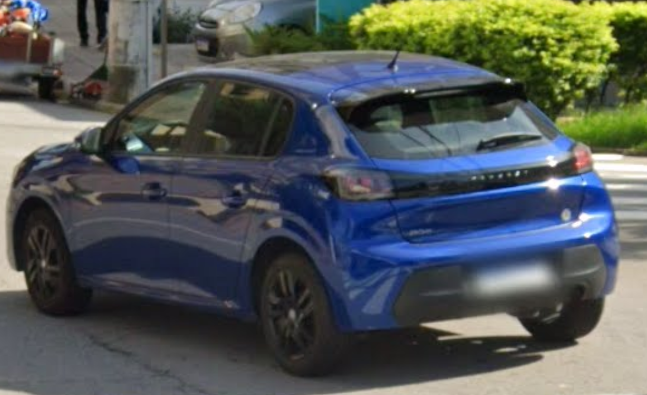car: (7, 50, 622, 376)
